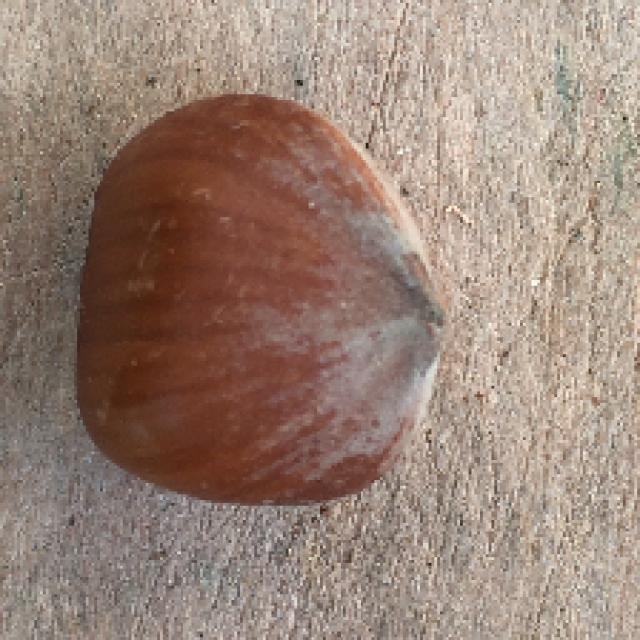QualityHazelnut: (77, 89, 450, 506)
